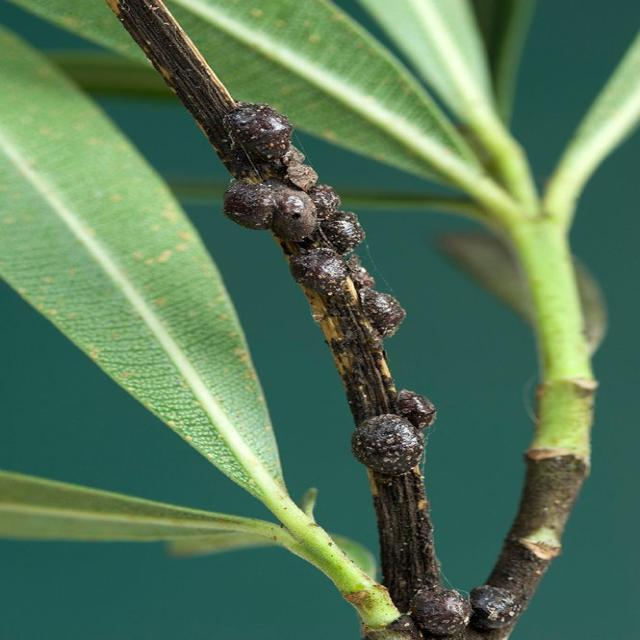BlackScale: (222, 102, 404, 336), (352, 391, 436, 484), (410, 585, 521, 639)
